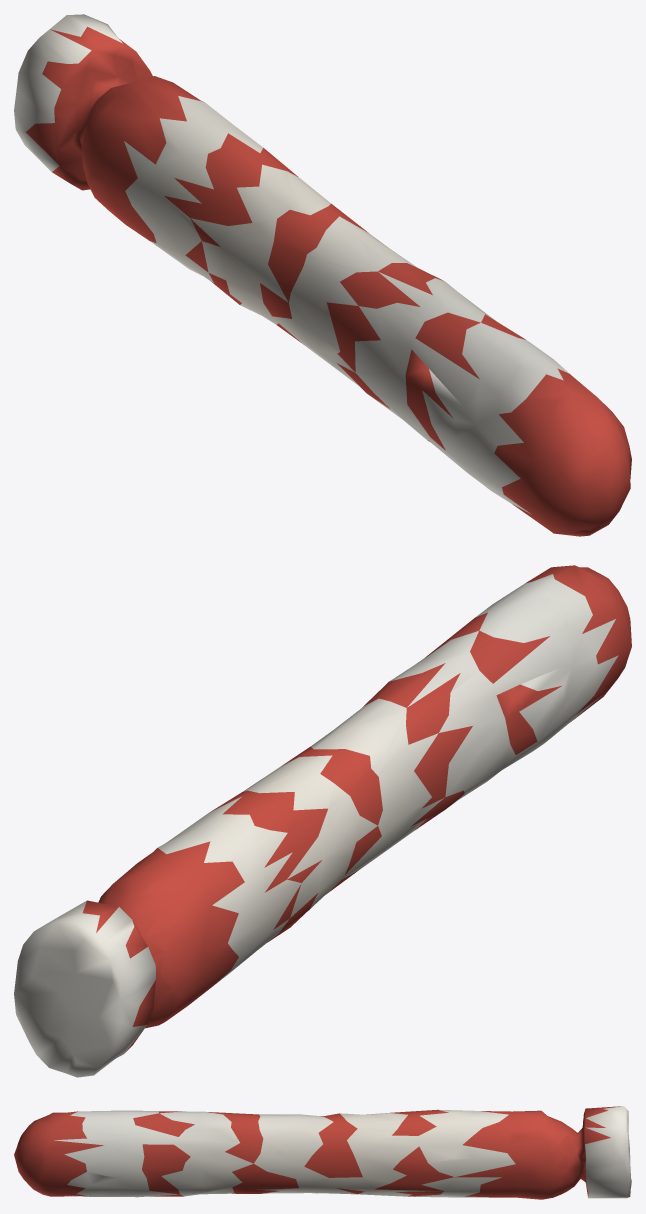
File: den_sock_lod2.glb
3 renders of one model, top to bottom at view 1: azimuth 30°, elevation 25°; view 2: azimuth 150°, elevation 25°; view 3: azimuth 270°, elevation 25°, orthographic. The views are drawn at different scales.
Visible parts, largest first — view 1: den_sock.001; view 2: den_sock.001; view 3: den_sock.001.
Boxes of the visible parts, <box> form: den_sock.001: <box>14,14,631,536</box>; den_sock.001: <box>14,565,631,1077</box>; den_sock.001: <box>14,1106,631,1199</box>.
Size of the model in its own units: 2.8 by 3.67 by 23.88.
